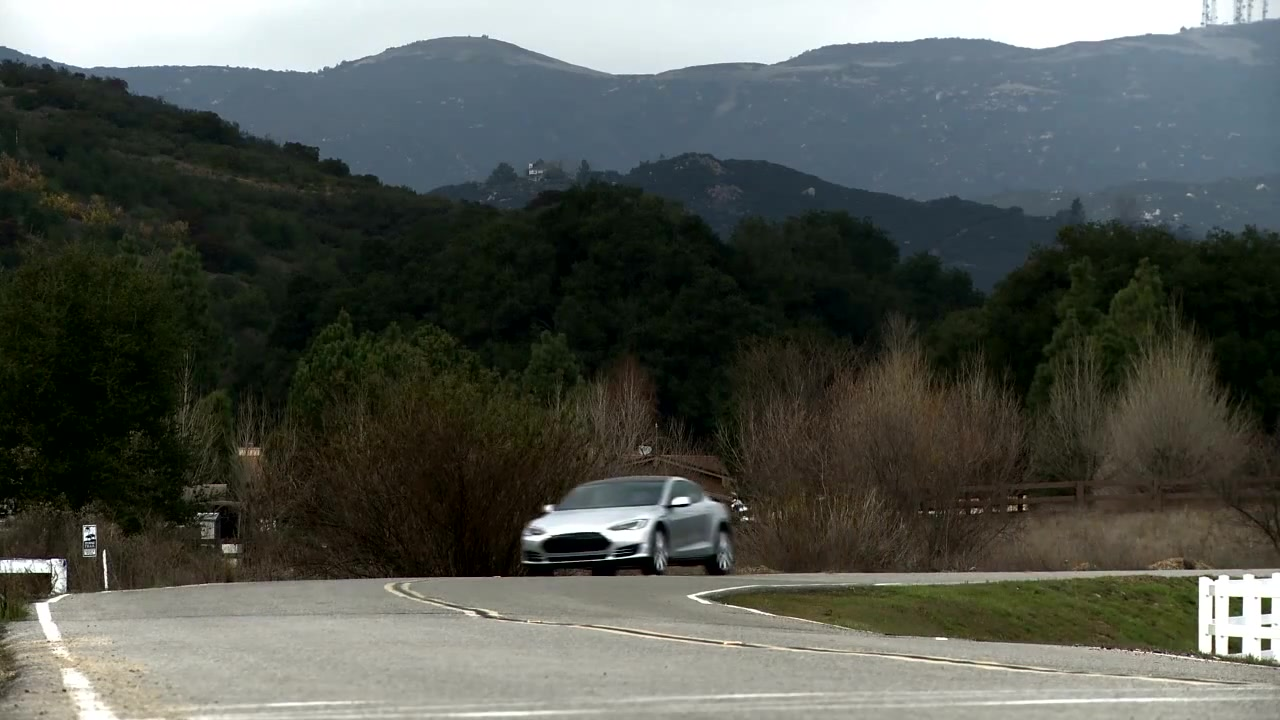car: (520, 469, 742, 576)
